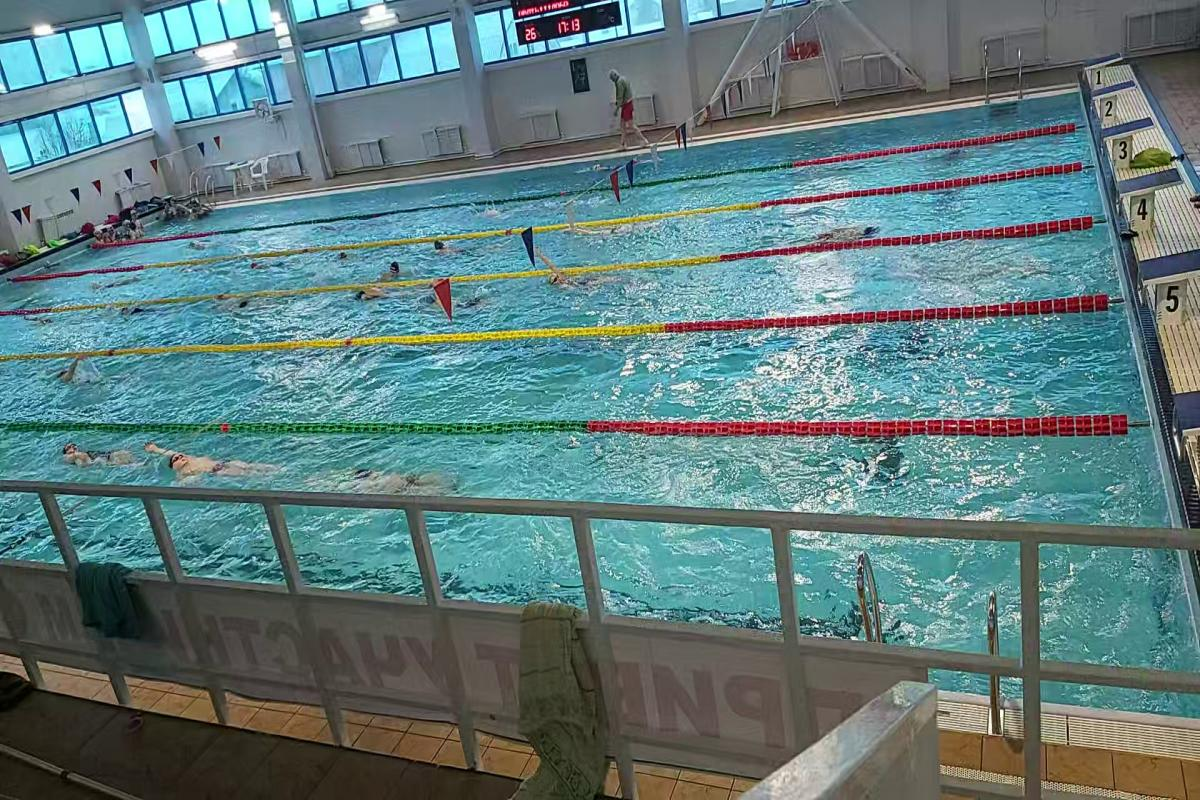swimmer: (141, 439, 268, 485), (320, 463, 457, 494), (54, 440, 137, 476), (794, 215, 890, 244), (541, 259, 615, 294), (53, 359, 96, 394), (428, 233, 477, 254), (348, 286, 392, 304), (373, 260, 409, 279), (115, 308, 155, 322)
